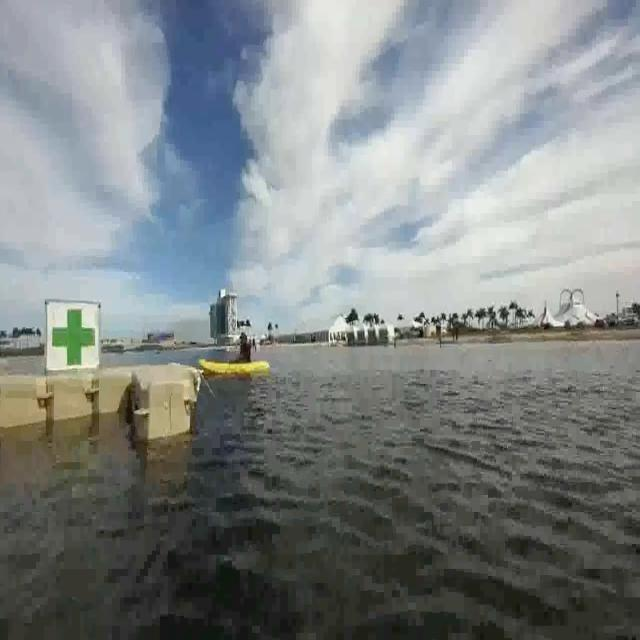blue-cross: (43, 304, 100, 377)
